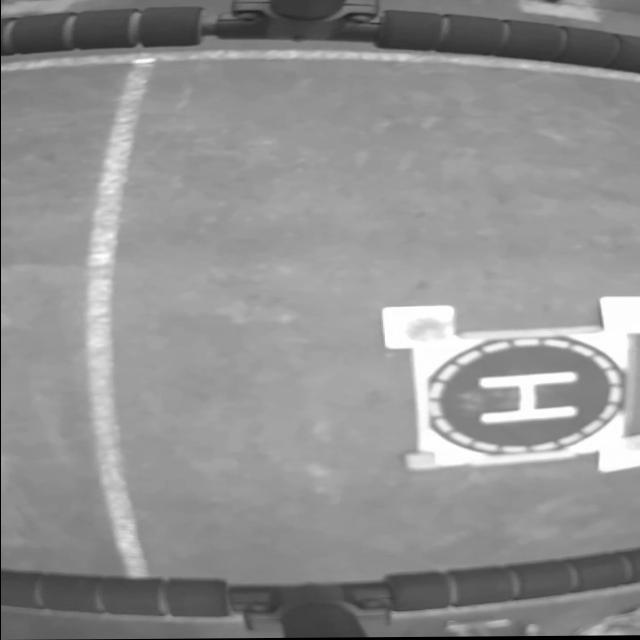Helipad: (475, 372, 581, 426)
